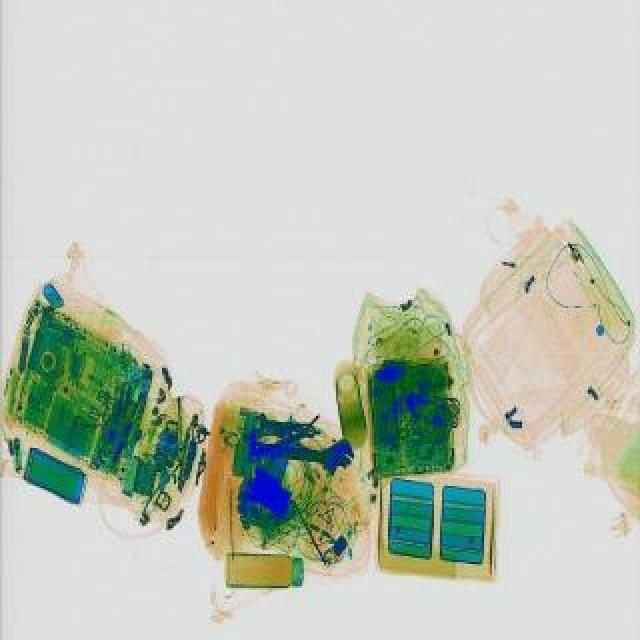pliers: (72, 412, 104, 432)
scissors: (250, 426, 354, 474), (250, 410, 314, 438)
